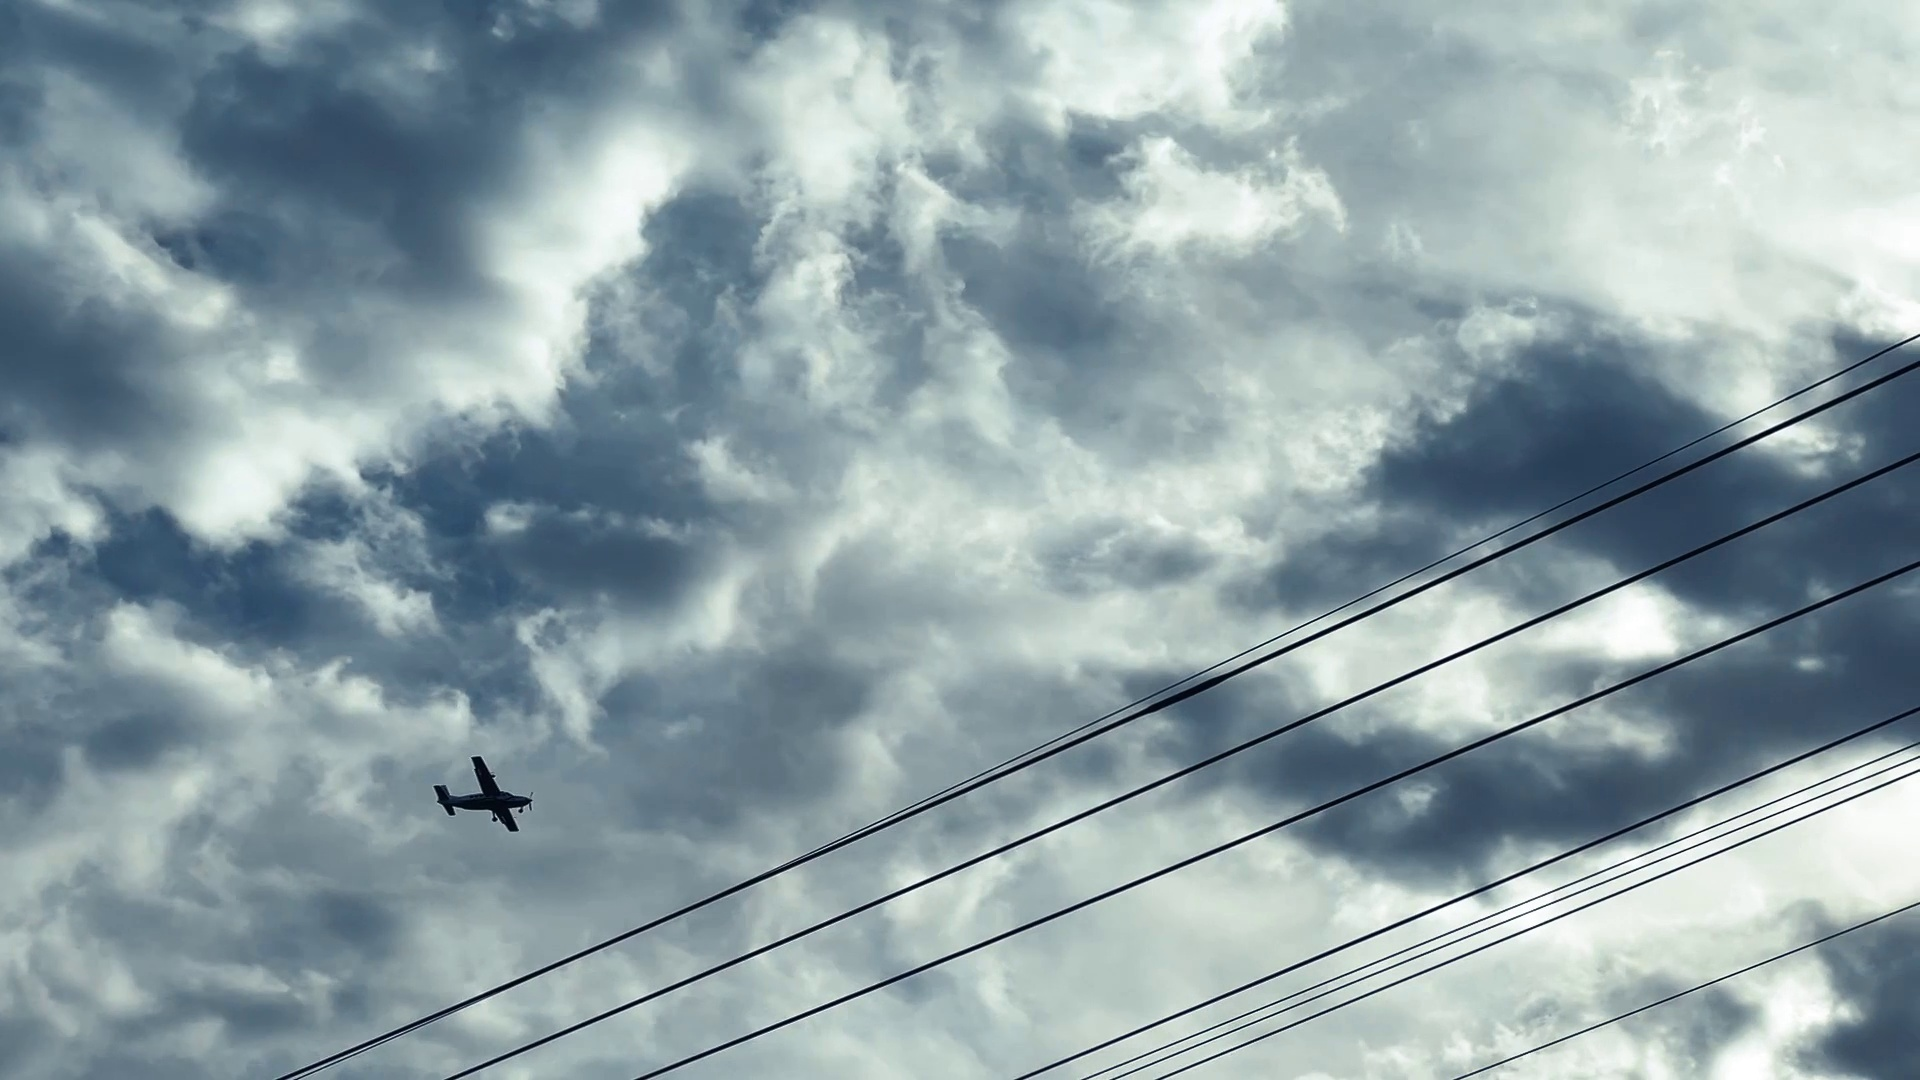plane: (431, 753, 538, 831)
